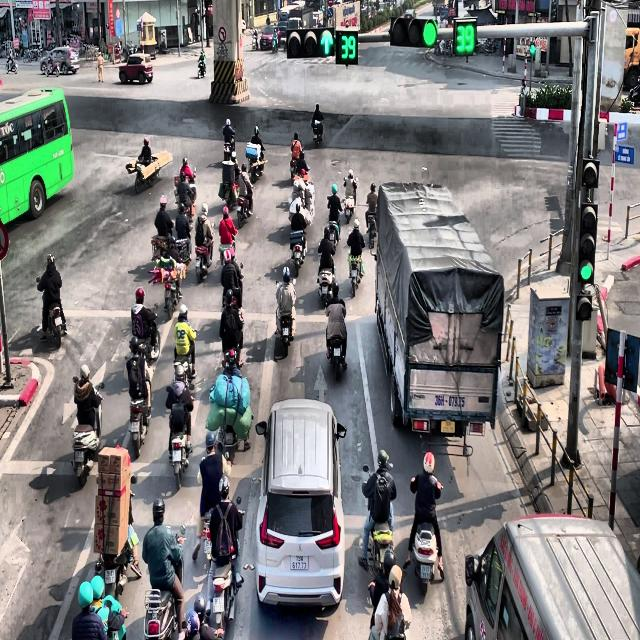lisence_plate: (432, 391, 466, 410), (436, 415, 460, 441), (289, 554, 309, 571)
